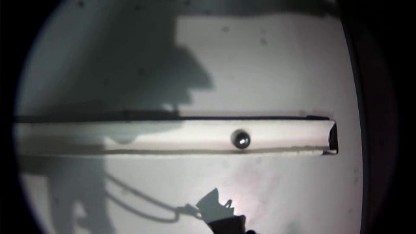gangzhu: (230, 129, 252, 149)
